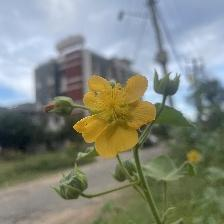indian mallow: (79, 74, 158, 160)
